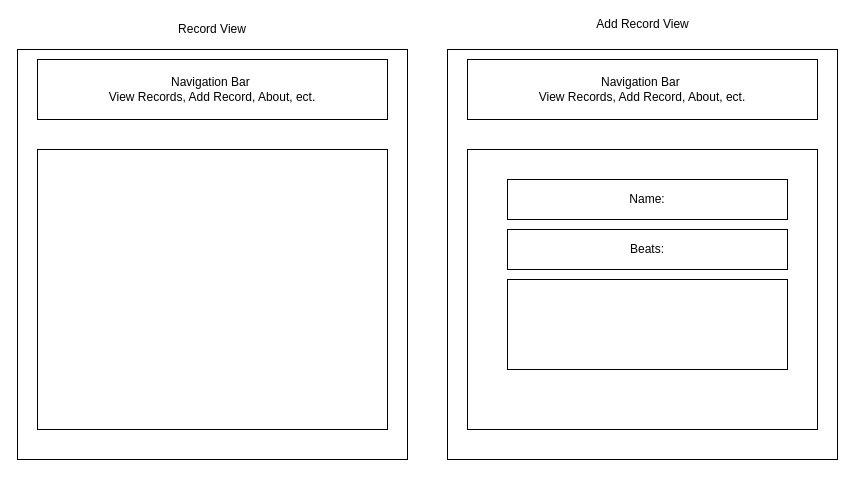
The diagram is 855 pixels wide and 477 high, and some of its shapes have lost their labels. The box of each missing label's shape, as (x1, y1, x2, y2) in pixels:
Drag and Drop File Here: (506, 278, 788, 370)
List of Records (Length, Beats, Play Button, ): (36, 148, 388, 430)
